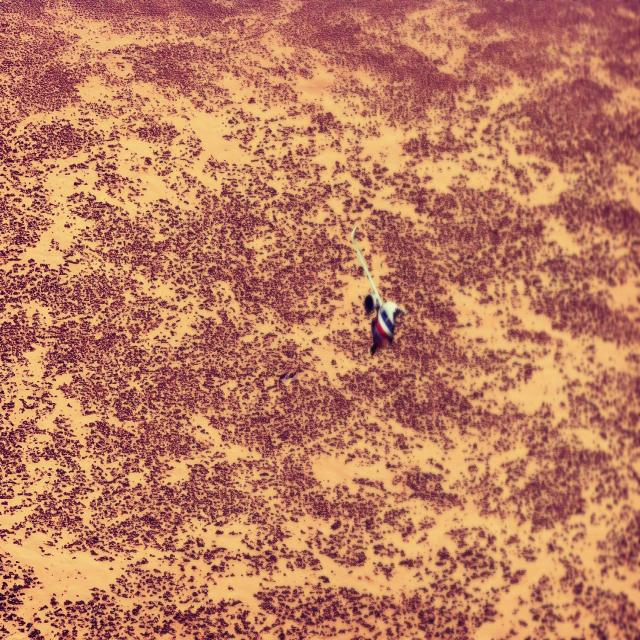airplane: (350, 224, 406, 353)
